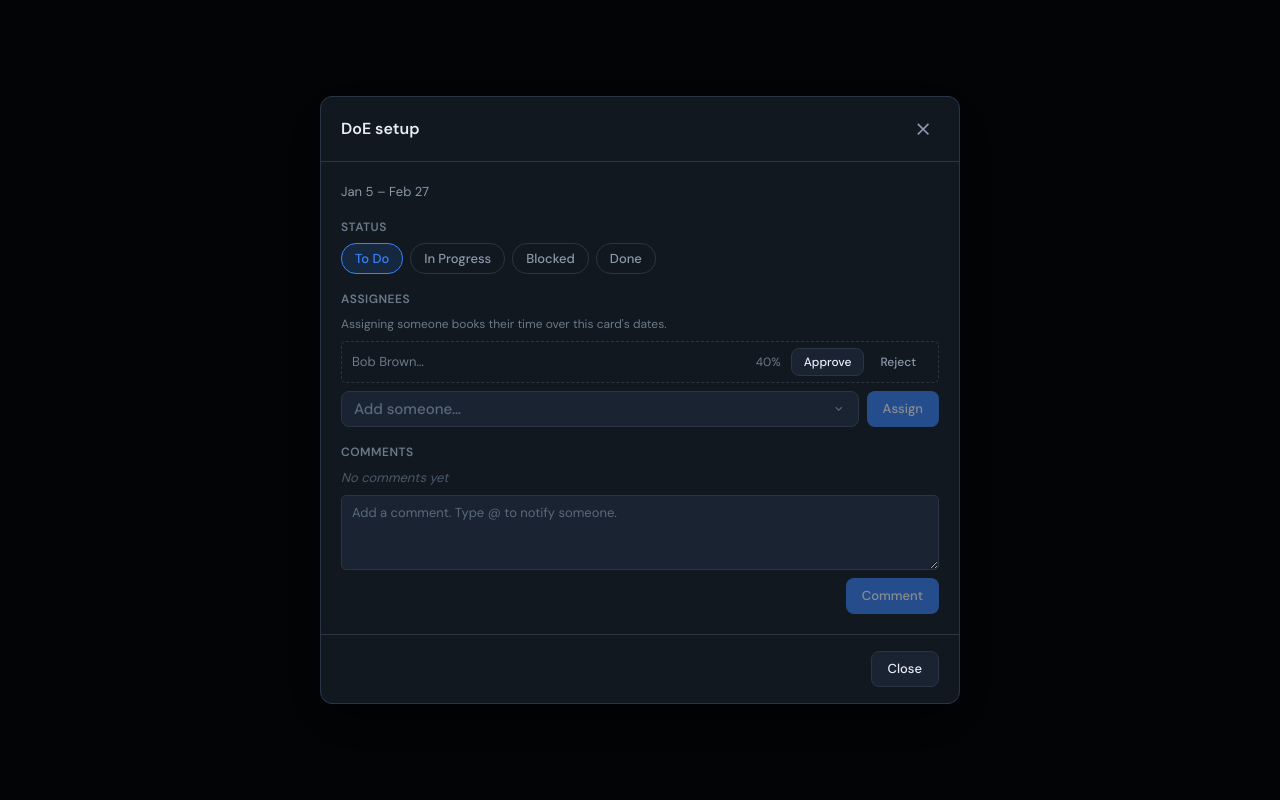
it: KanbanCardModal pending rows › shows a failed decision in the dialog
Click the button with aria-label "Approve Bob Brown" at (828, 362), box 791,348 -> 864,376
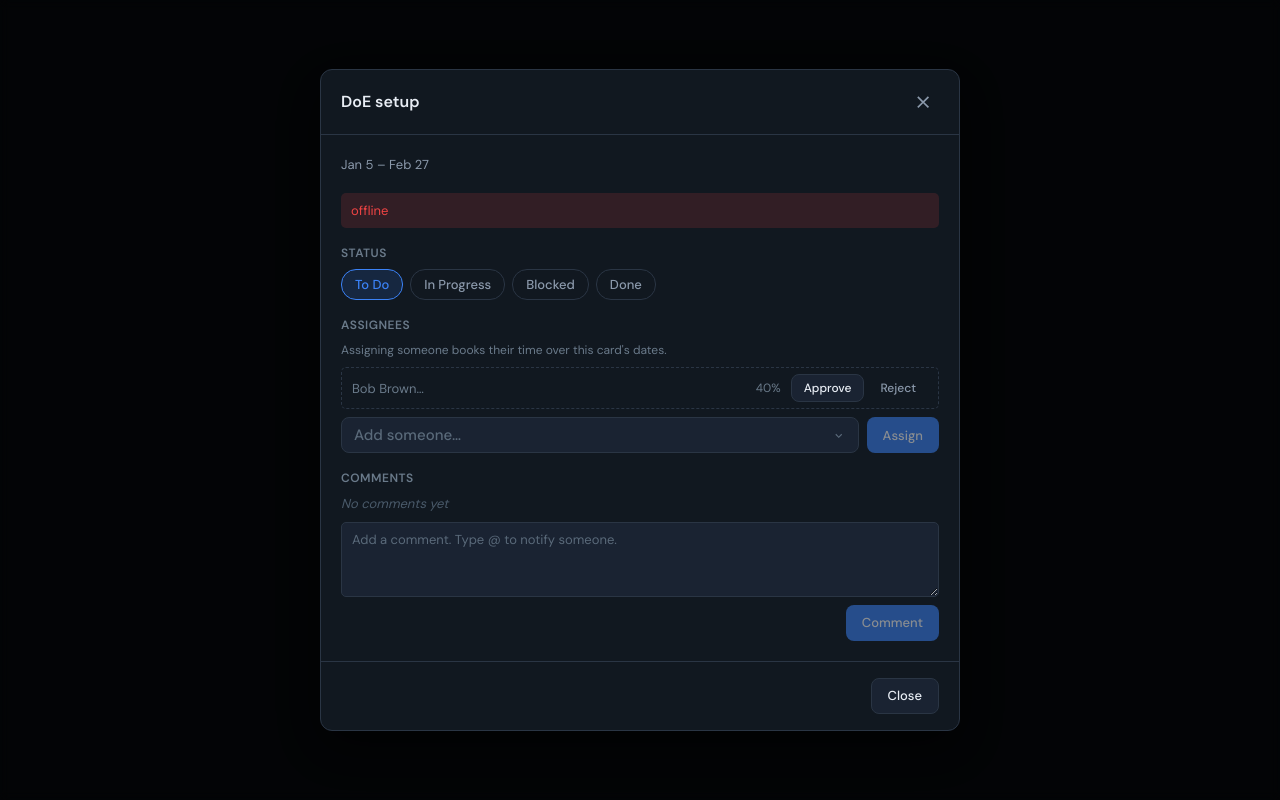
Result: the text "offline" is shown at 341,193 -> 939,228
